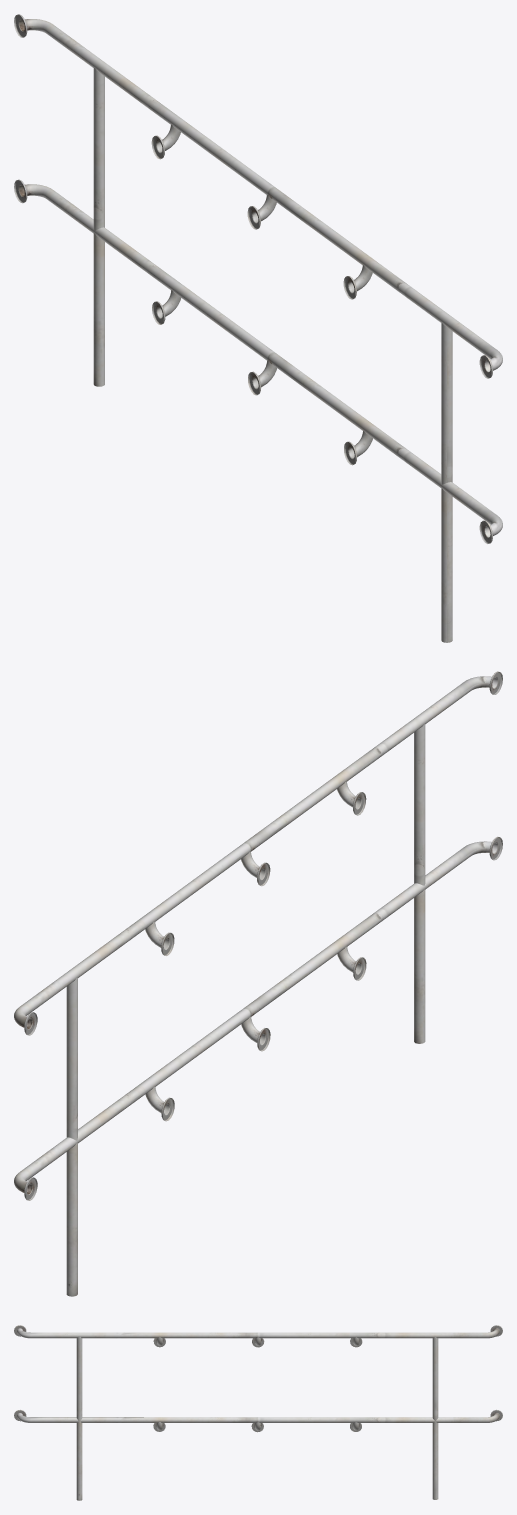
The model's file is SM_Railing_100u.glb.
3 renders of one model, top to bottom at view 1: azimuth 30°, elevation 25°; view 2: azimuth 150°, elevation 25°; view 3: azimuth 270°, elevation 25°, orthographic. The views are drawn at different scales.
Parts seen in each view (by area): view 1: SM_Railing_100u; view 2: SM_Railing_100u; view 3: SM_Railing_100u.
Part boxes in pixels (x1,y1,x2,y2): SM_Railing_100u: (14, 14, 502, 642); SM_Railing_100u: (14, 671, 502, 1296); SM_Railing_100u: (14, 1325, 502, 1500).
Bounding box in the file's own units: 0.0731 × 0.9521 × 2.49.
1 material, 1 textured.
